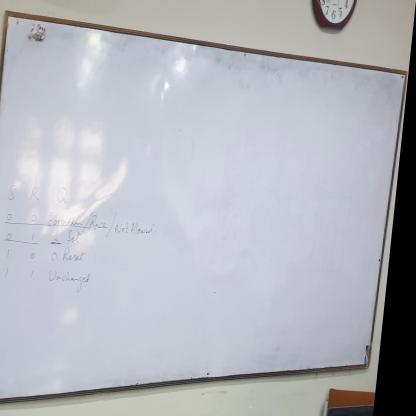Handwritten text: (11, 179, 77, 214), (52, 267, 102, 294), (117, 219, 162, 243), (52, 213, 90, 234), (64, 247, 93, 267), (94, 214, 116, 236), (69, 229, 90, 249)
Whiteboard: (0, 10, 412, 416)
